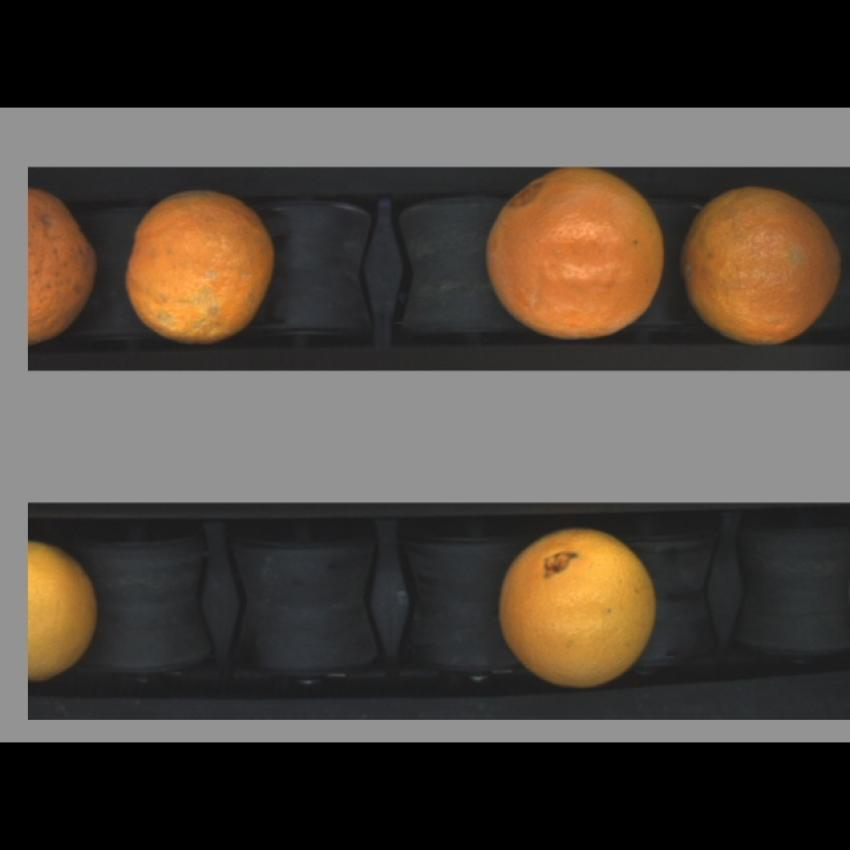Buen estado: (495, 516, 662, 687), (29, 532, 101, 690)
Mal estado: (483, 172, 670, 335), (676, 177, 848, 349), (121, 181, 282, 344), (29, 179, 101, 346)
